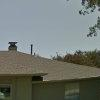Chimney: (4, 36, 24, 59)
